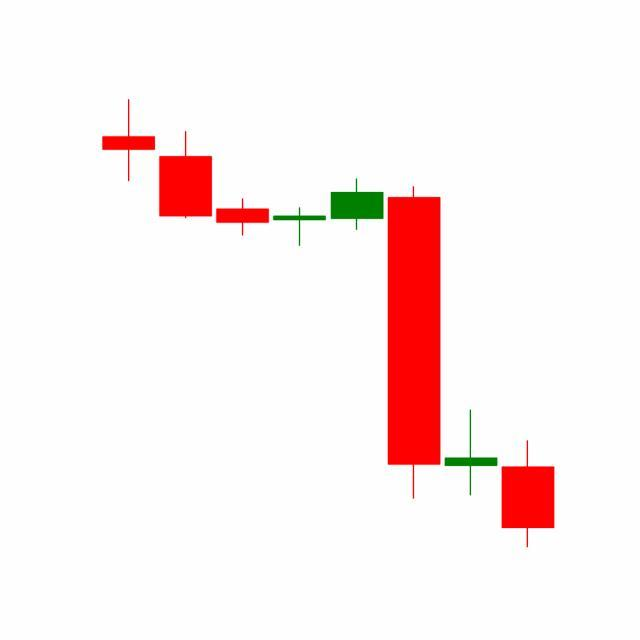Hikkake Pattern: (270, 174, 555, 548)
